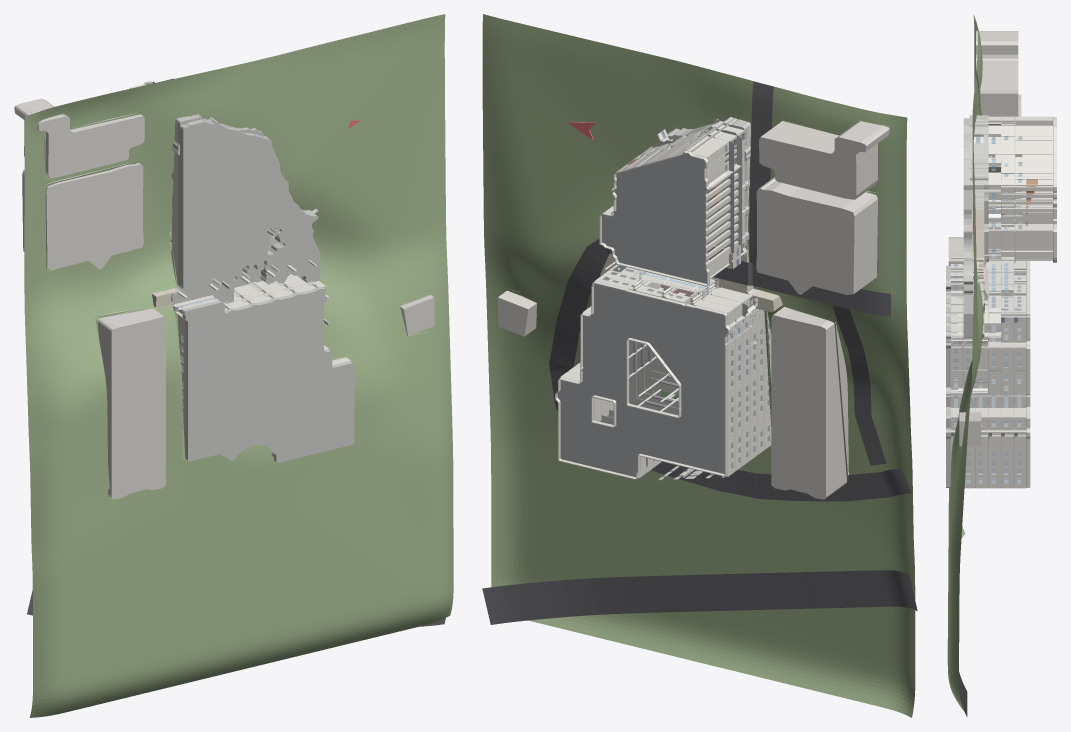
The model's file is PathFinder_Campus_3D.fbx.
3 views of the same model, side by side, from view 1: azimuth 30°, elevation 25°; view 2: azimuth 150°, elevation 25°; view 3: azimuth 270°, elevation 25° (orthographic). The views are drawn at different scales.
Visible parts, largest first — view 1: Site_Terrain, TB_LG03_Foundation, AB_FC_Foundation, Existing_AdminBlock1, Existing_Library, TB_LG03_Walls, Existing_House, TB_LG02_Walls, AB_FC_Walls; view 2: Site_Terrain, Site_Roads, TB_2F_Roof, Existing_AdminBlock1, Existing_Library, AB_2F_Roof, AB_2F_Walls, TB_2F_Parapet, TB_1F_Walls, TB_2F_Walls, TB_GF_Walls, Existing_House (+11 smaller); view 3: Site_Terrain, AB_2F_Walls, Existing_AdminBlock1, TB_1F_Walls, TB_2F_Walls, TB_GF_Walls, AB_GF_Walls, AB_FC_Foundation, TB_LG03_Walls, AB_FF_Walls, TB_LG02_Walls, TB_LG01_Walls (+23 smaller).
Boxes of the visible parts, left/top/right/bottom form: Site_Terrain: left=24, top=14, right=453, bottom=717; TB_LG03_Foundation: left=182, top=287, right=356, bottom=462; AB_FC_Foundation: left=171, top=118, right=320, bottom=304; Existing_AdminBlock1: left=14, top=98, right=144, bottom=269; Existing_Library: left=98, top=306, right=165, bottom=499; TB_LG03_Walls: left=172, top=260, right=351, bottom=458; Existing_House: left=400, top=295, right=434, bottom=336; TB_LG02_Walls: left=173, top=248, right=311, bottom=324; AB_FC_Walls: left=165, top=118, right=318, bottom=307; Site_Terrain: left=482, top=14, right=915, bottom=717; Site_Roads: left=482, top=82, right=917, bottom=624; TB_2F_Roof: left=557, top=281, right=730, bottom=477; Existing_AdminBlock1: left=756, top=121, right=889, bottom=294; Existing_Library: left=771, top=306, right=848, bottom=499; AB_2F_Roof: left=602, top=150, right=709, bottom=284; AB_2F_Walls: left=605, top=133, right=733, bottom=278; TB_2F_Parapet: left=555, top=281, right=730, bottom=479; TB_1F_Walls: left=567, top=261, right=745, bottom=474; TB_2F_Walls: left=557, top=264, right=737, bottom=480; TB_GF_Walls: left=575, top=264, right=755, bottom=468; Existing_House: left=498, top=289, right=536, bottom=336; Site_Terrain: left=947, top=15, right=983, bottom=711; AB_2F_Walls: left=1015, top=116, right=1052, bottom=260; Existing_AdminBlock1: left=976, top=31, right=1021, bottom=206; TB_1F_Walls: left=1001, top=257, right=1013, bottom=488; TB_2F_Walls: left=1014, top=257, right=1026, bottom=488; TB_GF_Walls: left=988, top=257, right=1000, bottom=488; AB_GF_Walls: left=988, top=116, right=1014, bottom=260; AB_FC_Foundation: left=963, top=118, right=972, bottom=337; TB_LG03_Walls: left=951, top=257, right=963, bottom=461; AB_FF_Walls: left=1001, top=116, right=1014, bottom=260; TB_LG02_Walls: left=963, top=258, right=987, bottom=488; TB_LG01_Walls: left=975, top=344, right=995, bottom=488.
Size of the model in its own units: 128 by 172 by 32.85.
